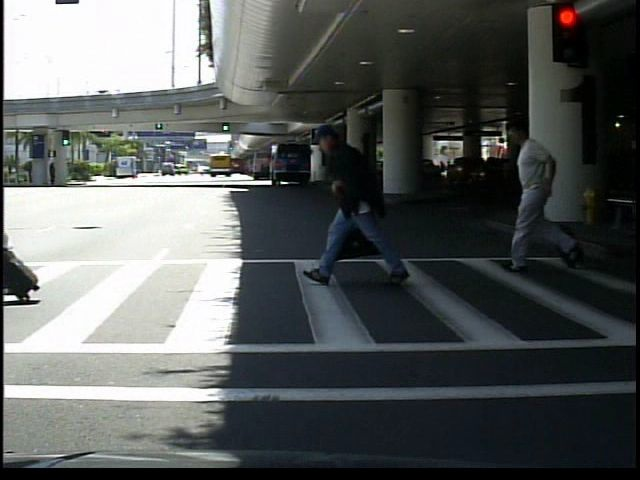person: (313, 115, 400, 288), (508, 112, 573, 270)
